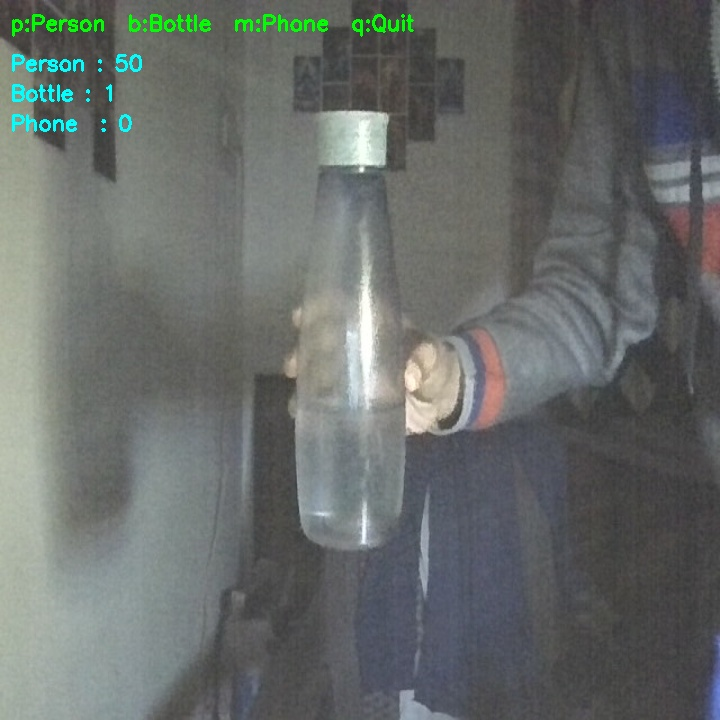bottle: (283, 108, 414, 555)
